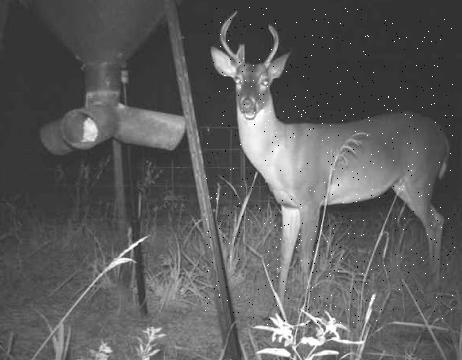Deer: (205, 7, 455, 326)
